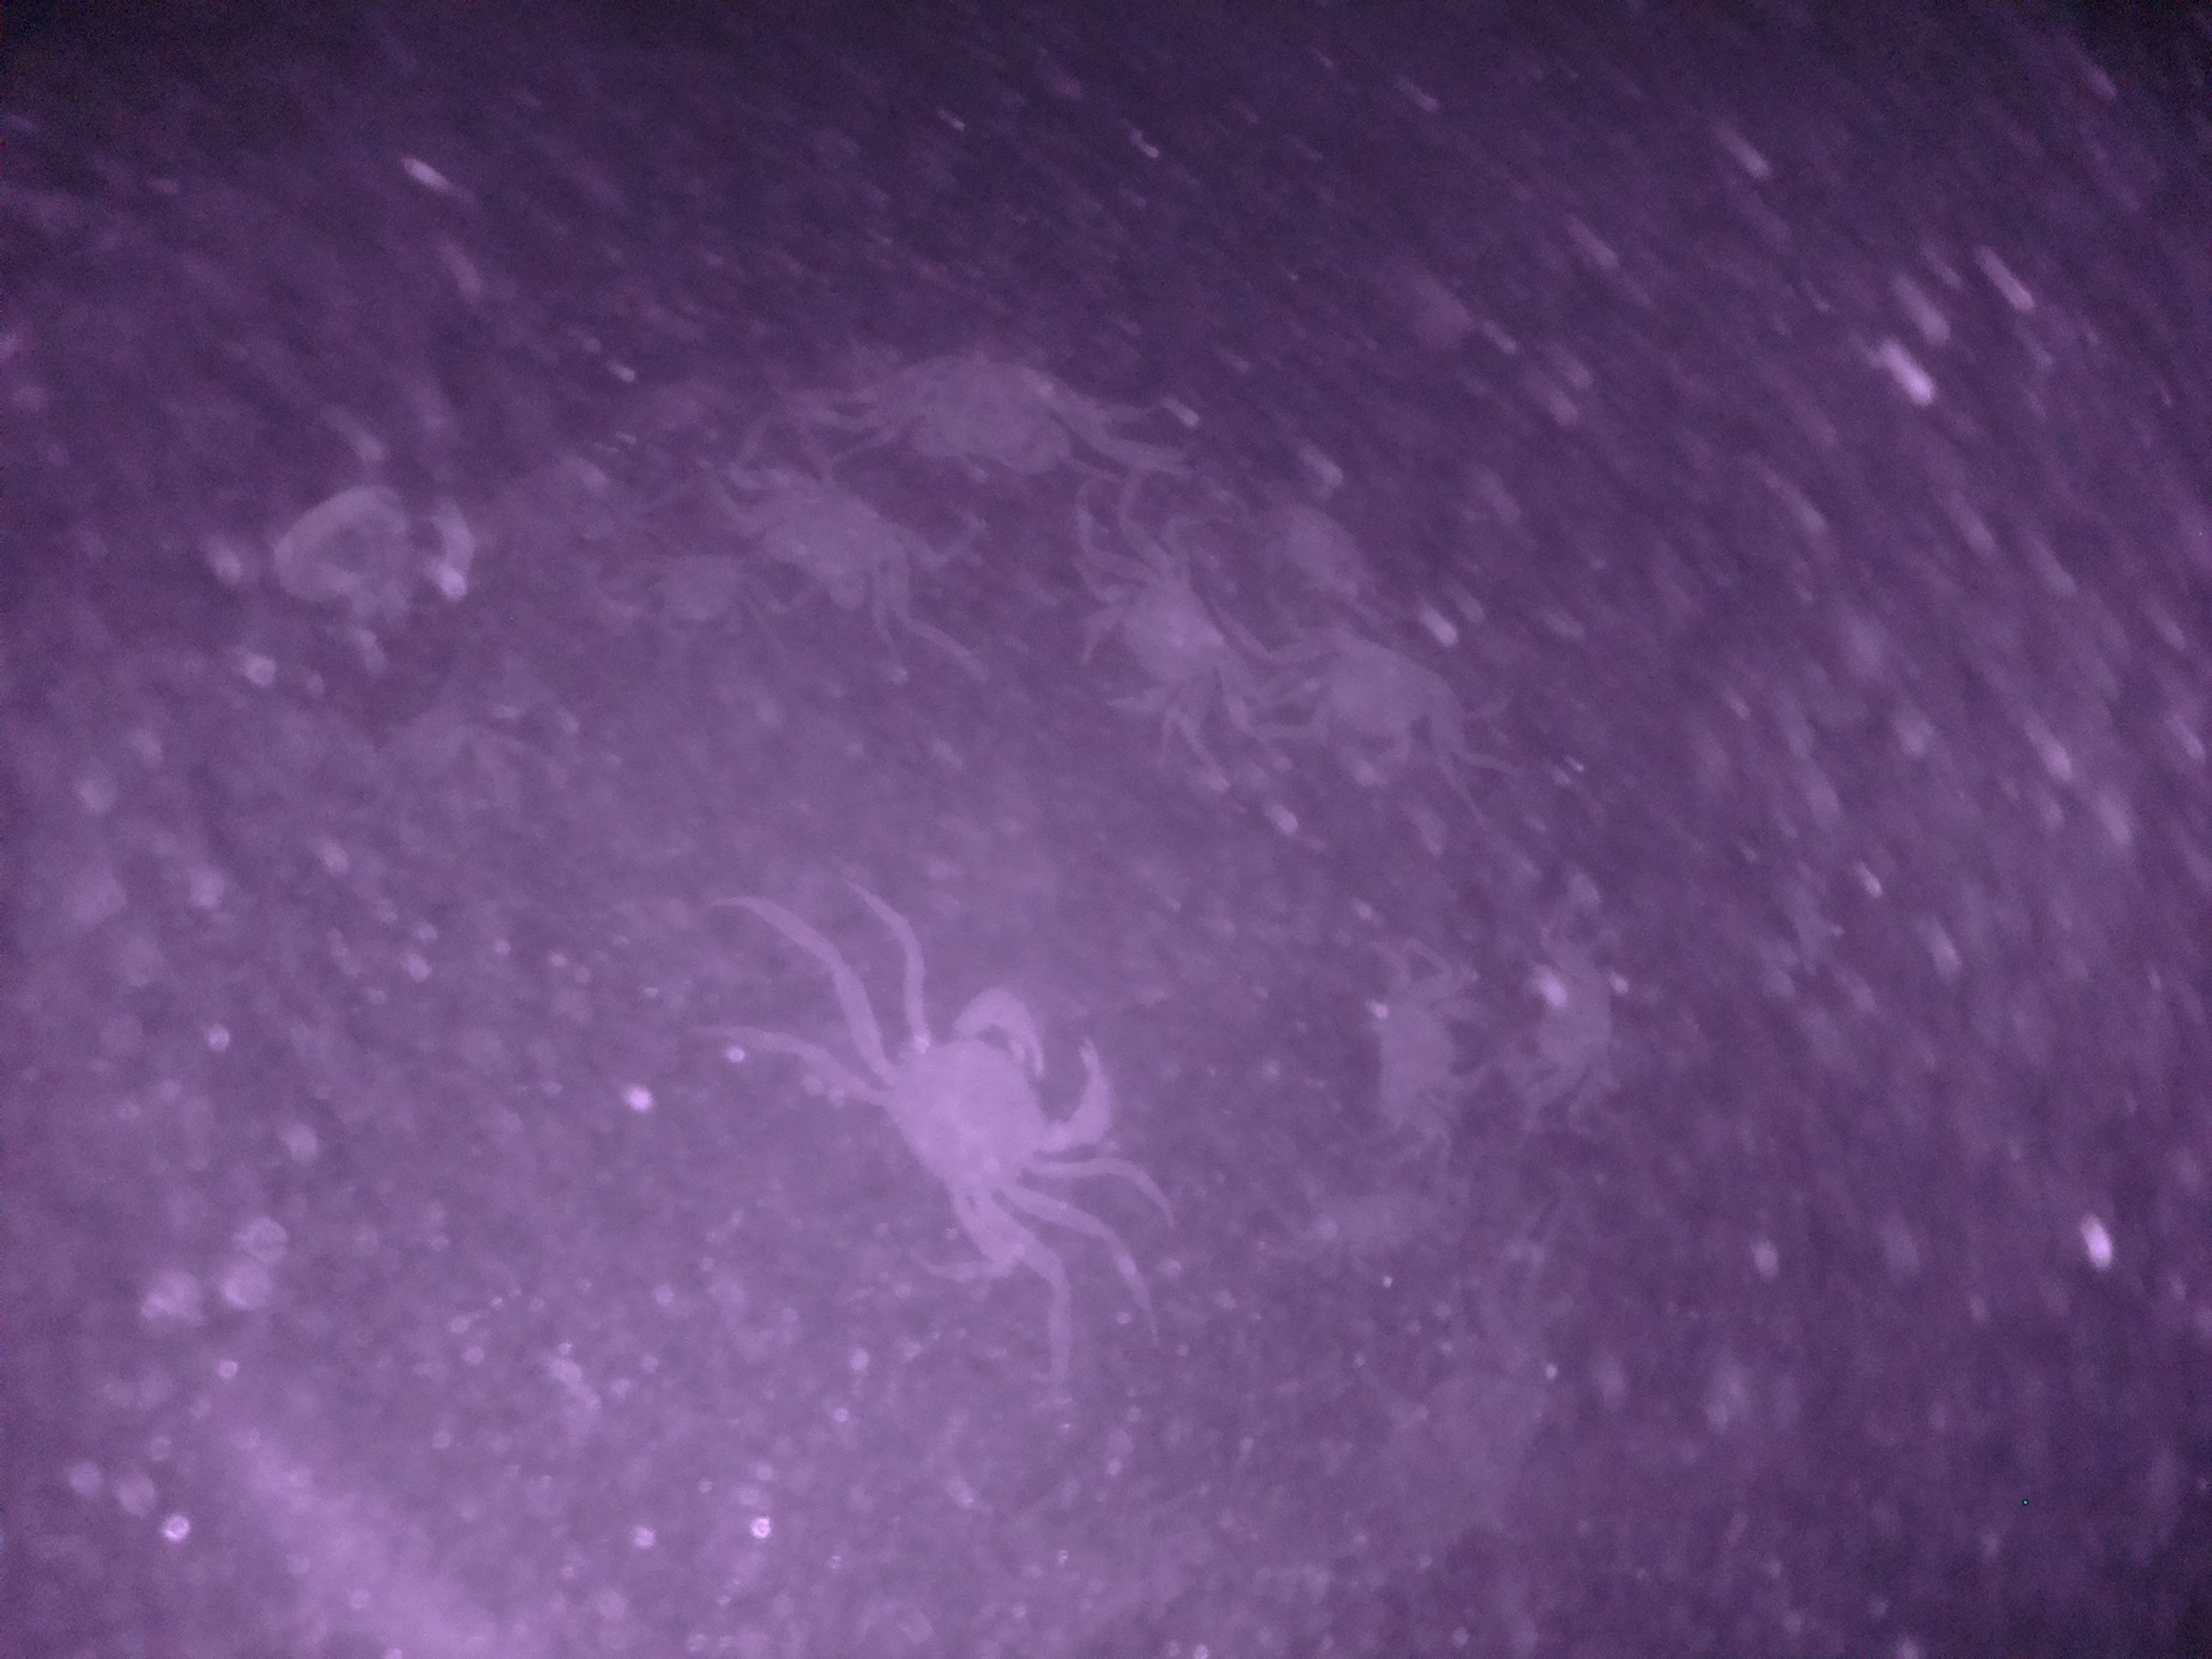Crab: (843, 976, 1125, 1262), (1258, 603, 1505, 765), (1071, 528, 1252, 744), (888, 326, 1099, 481), (1505, 920, 1649, 1141), (738, 458, 920, 624), (1362, 931, 1484, 1143), (620, 538, 779, 629)
